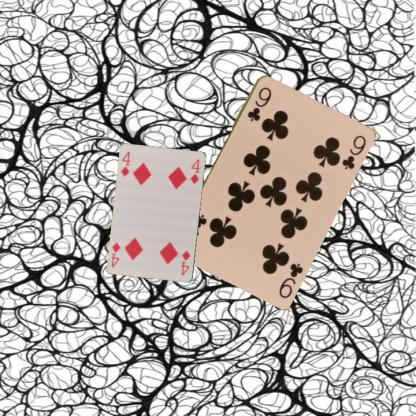4d: (178, 248, 192, 277), (118, 149, 132, 178)
9c: (276, 260, 305, 300), (244, 84, 273, 122)
